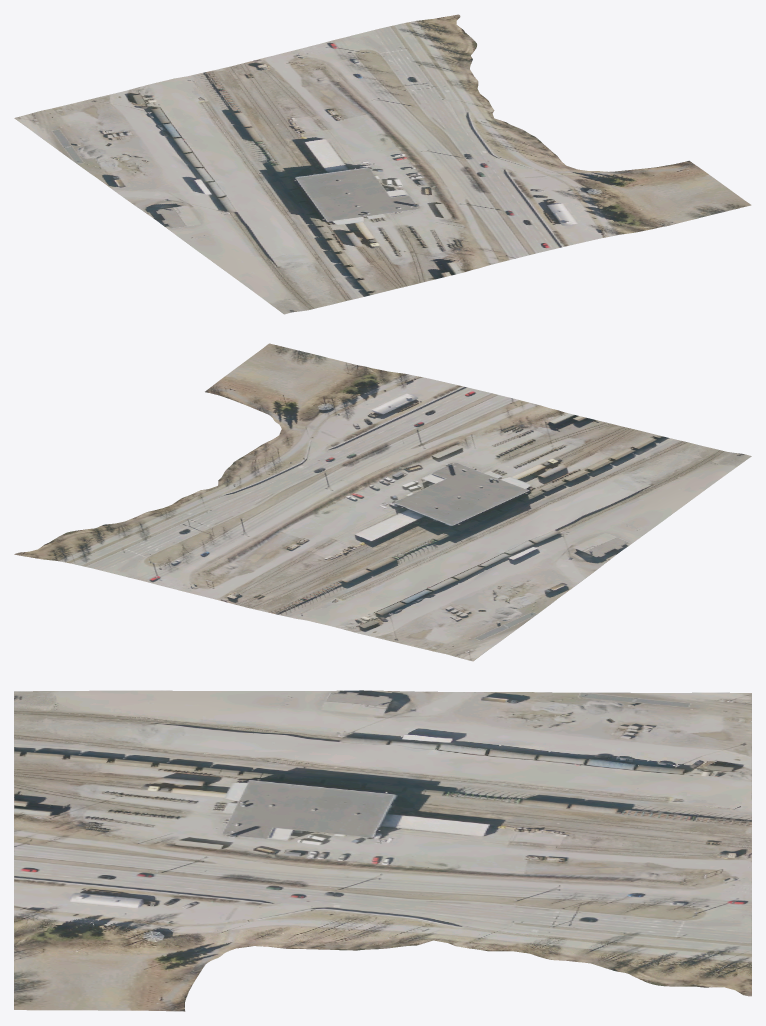
Rendered from CM_Terrain_24488001_6819384.fbx.
3 views of the same model, one above another, from view 1: azimuth 30°, elevation 25°; view 2: azimuth 150°, elevation 25°; view 3: azimuth 270°, elevation 25° (orthographic). The views are drawn at different scales.
Visible parts, largest first — view 1: CM_Terrain_24488001_6819384_LOD0; view 2: CM_Terrain_24488001_6819384_LOD0; view 3: CM_Terrain_24488001_6819384_LOD0.
Boxes of the visible parts, x1=… form: CM_Terrain_24488001_6819384_LOD0: x1=14, y1=14, x2=751, y2=314; CM_Terrain_24488001_6819384_LOD0: x1=14, y1=343, x2=751, y2=661; CM_Terrain_24488001_6819384_LOD0: x1=14, y1=690, x2=751, y2=1011.
Size of what is drawn, in the model's own units: 205 by 3.24 by 205.
